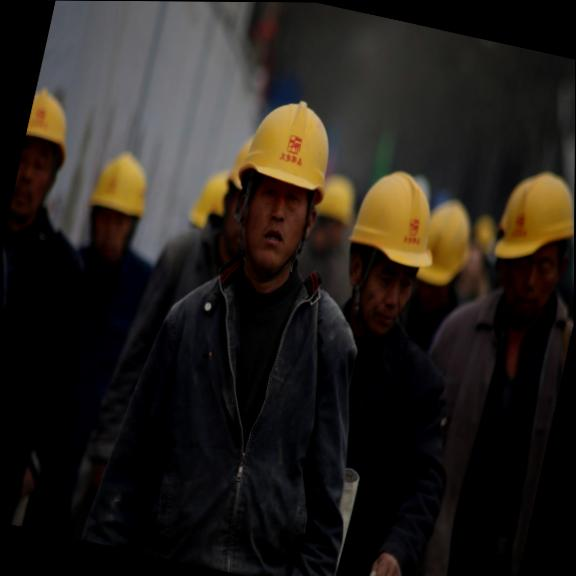no_safety_vest: (94, 251, 371, 576), (250, 284, 462, 552), (385, 272, 574, 561), (23, 218, 168, 414), (0, 195, 92, 461)
